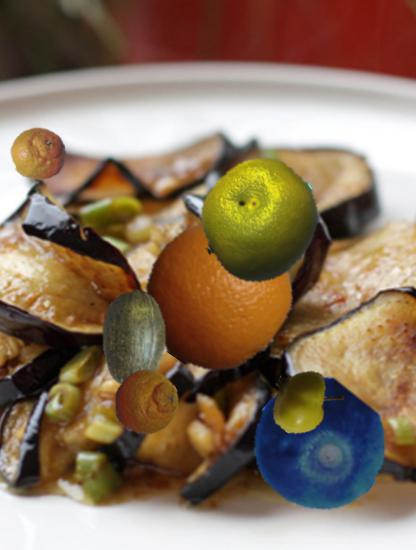Apple: (270, 369, 339, 438)
Huckleberry: (252, 379, 386, 513)
Mandarine: (113, 369, 180, 436), (11, 126, 67, 182)
Melon: (85, 290, 183, 388)
Orange: (143, 221, 293, 371)
Pomelo: (199, 159, 321, 281)
